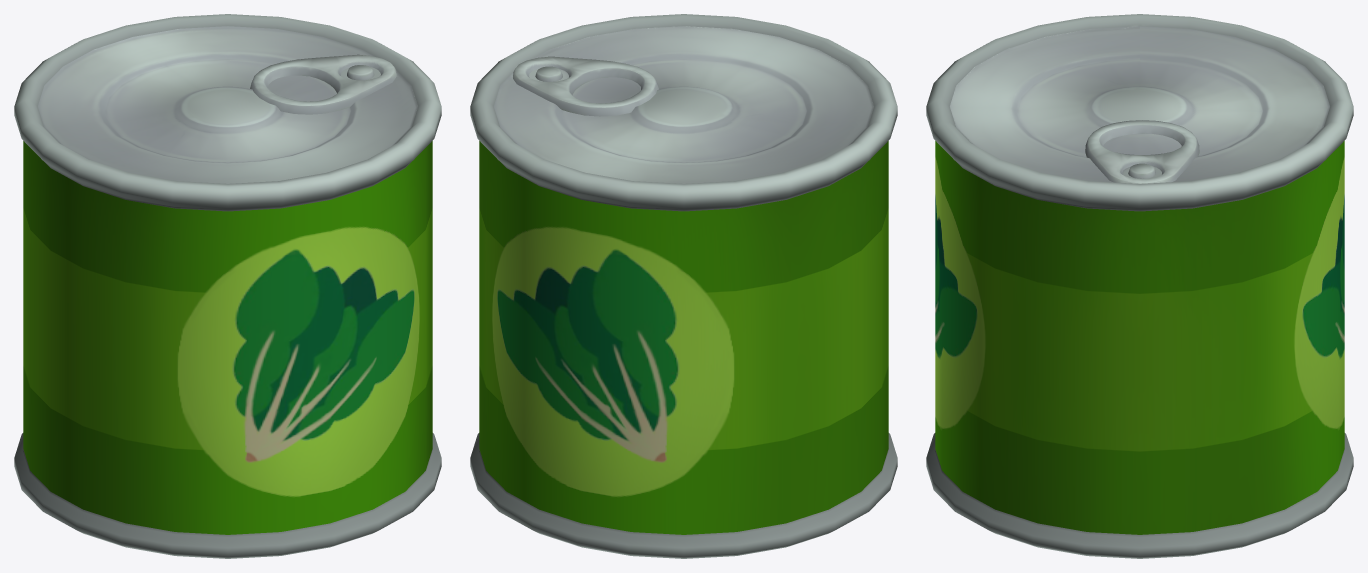
File: GuanTou.FBX
3 views of the same model, side by side, from view 1: azimuth 30°, elevation 25°; view 2: azimuth 150°, elevation 25°; view 3: azimuth 270°, elevation 25° (orthographic).
Visible parts, largest first — view 1: GuanTou; view 2: GuanTou; view 3: GuanTou.
Boxes of the visible parts, <box> form: GuanTou: <box>14,14,441,558</box>; GuanTou: <box>470,14,897,558</box>; GuanTou: <box>926,14,1353,558</box>.
Size of the model in its own units: 86.32 by 82.89 by 86.32.
Materials: 1 (1 with a texture image).
